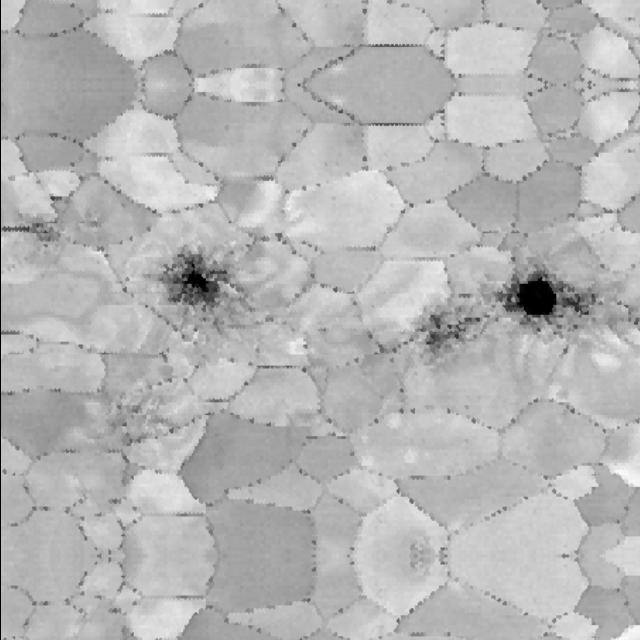good_void: (139, 227, 246, 333), (476, 266, 589, 358), (100, 375, 186, 451), (17, 181, 85, 261), (417, 304, 480, 356)
